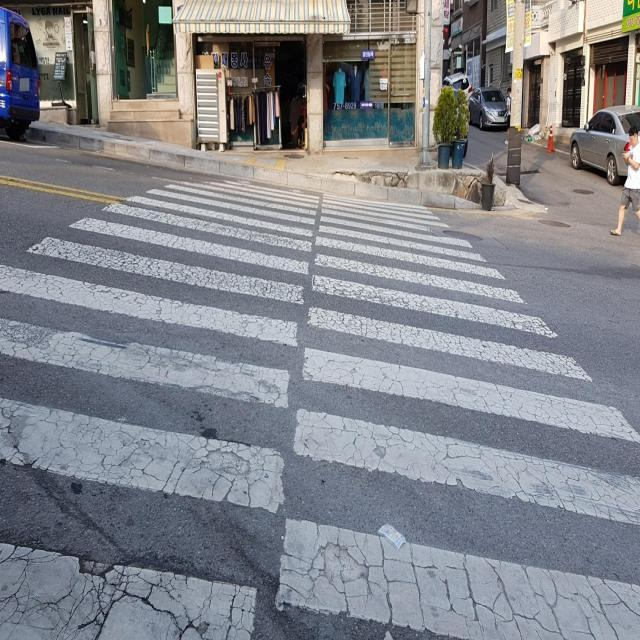횡단보도: (0, 180, 640, 640)
